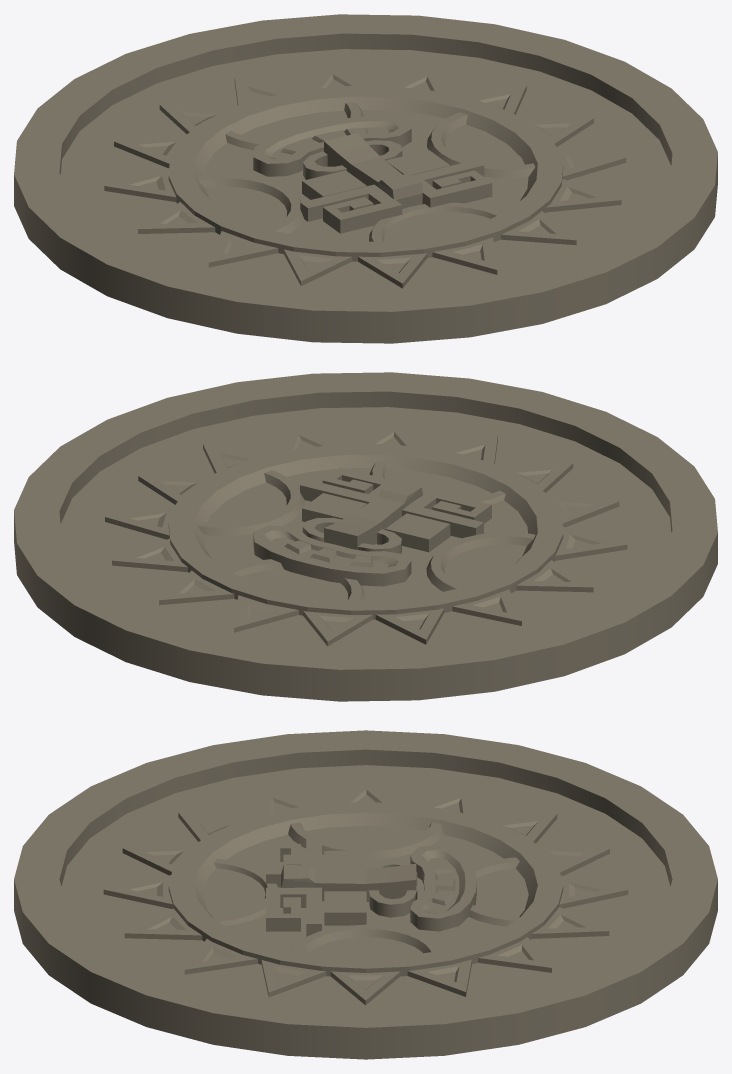
Rendered from TempleCircle_A.fbx.
3 views of the same model, one above another, from view 1: azimuth 30°, elevation 25°; view 2: azimuth 150°, elevation 25°; view 3: azimuth 270°, elevation 25° (orthographic).
Visible parts, largest first — view 1: TempleCircle_A; view 2: TempleCircle_A; view 3: TempleCircle_A.
Part boxes in pixels (x1=…): TempleCircle_A: x1=14, y1=14, x2=717, y2=343; TempleCircle_A: x1=14, y1=372, x2=717, y2=701; TempleCircle_A: x1=14, y1=730, x2=717, y2=1059.
Bounding box in the file's own units: 773 × 47.43 × 773.
